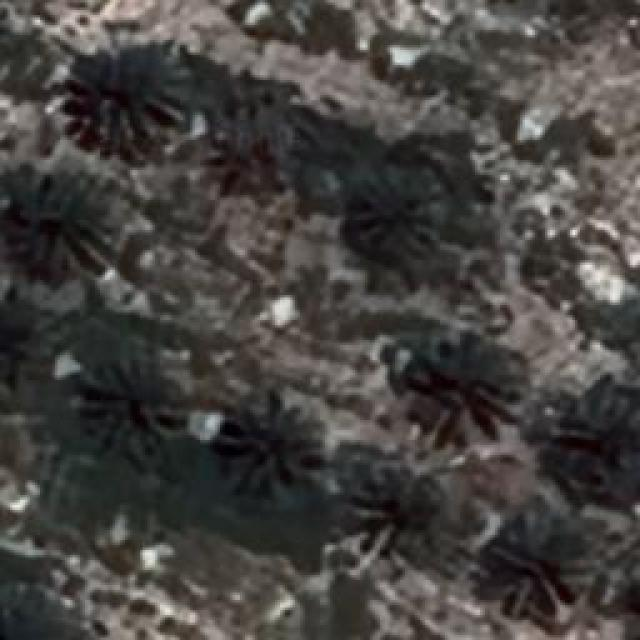PalmTree: (25, 93, 105, 345), (67, 48, 185, 150), (348, 164, 452, 266), (224, 394, 326, 498), (492, 516, 598, 612), (408, 348, 516, 442), (102, 364, 190, 468), (557, 403, 640, 498), (366, 474, 459, 558), (225, 88, 298, 186), (0, 587, 75, 640), (621, 559, 640, 639)
